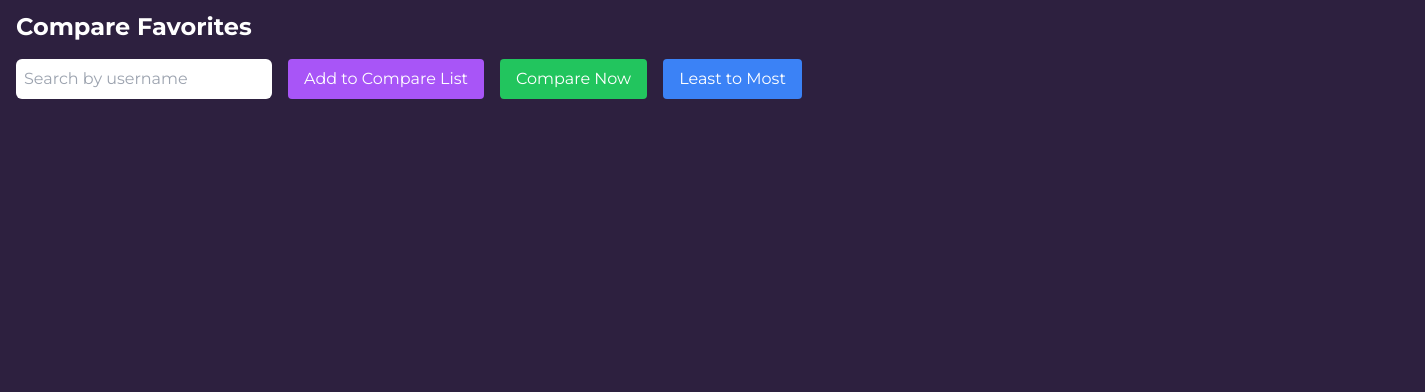
ComparePage Component › loads user favorites on mount
The width and height of the screenshot is (1425, 392).
Click the button "Compare Now". click: (574, 79)
box: [500,59,647,99]
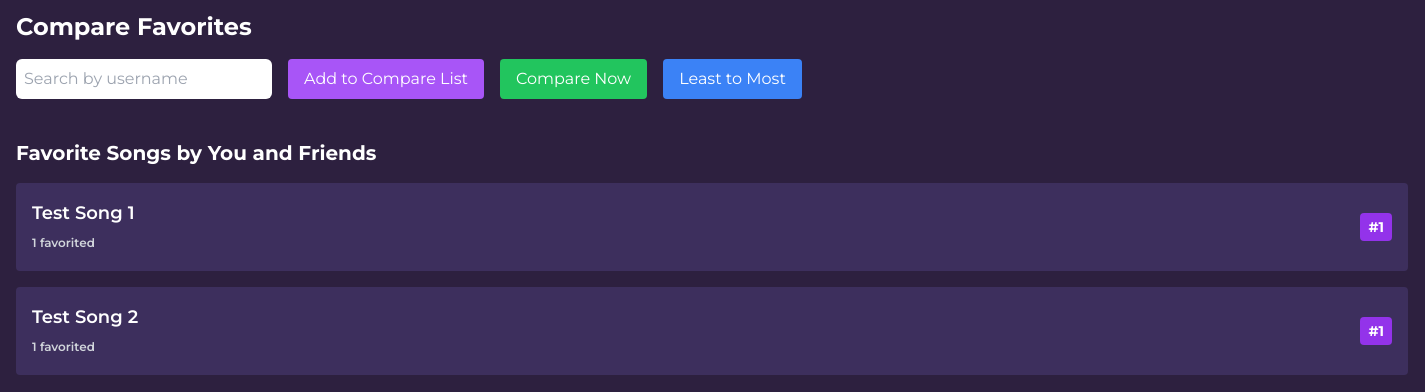
Expected: the text "Test Song 1" is shown, [32,199,134,227]
Expected: the text "Test Song 2" is shown, [32,303,138,331]
